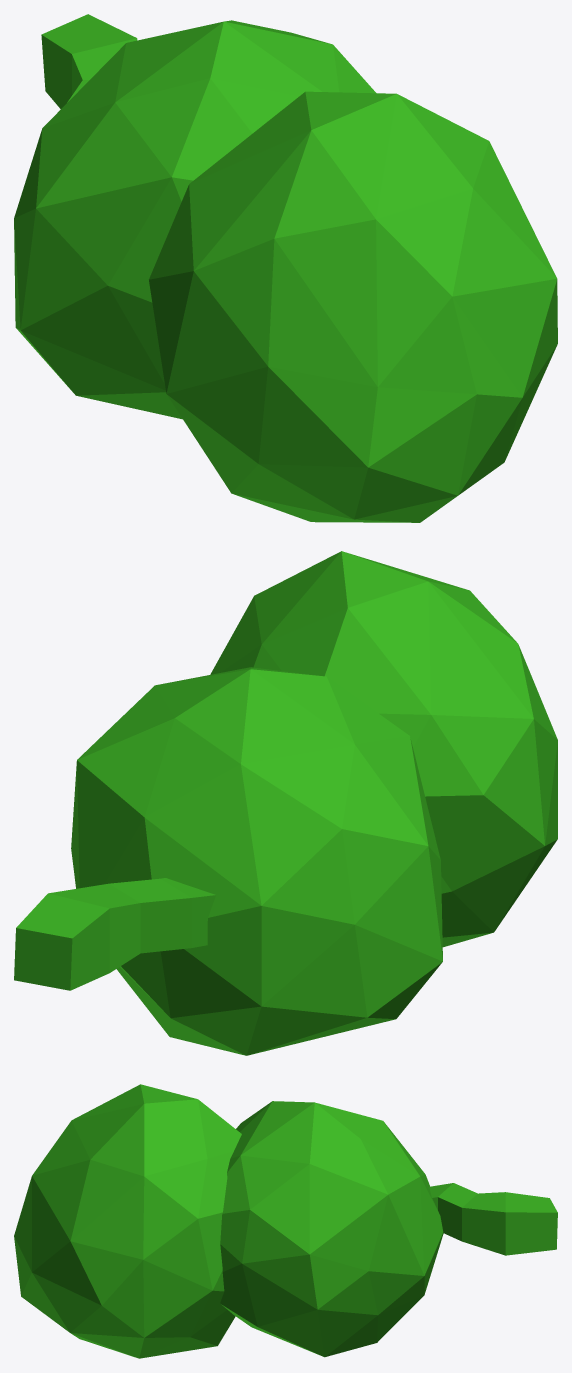
Rendered from godusTree.fbx.
3 views of the same model, one above another, from view 1: azimuth 30°, elevation 25°; view 2: azimuth 150°, elevation 25°; view 3: azimuth 270°, elevation 25° (orthographic). The views are drawn at different scales.
Visible parts, largest first — view 1: Icosphere; view 2: Icosphere; view 3: Icosphere.
Part boxes in pixels (bbox=[...]): Icosphere: bbox=[14, 14, 557, 522]; Icosphere: bbox=[14, 551, 557, 1055]; Icosphere: bbox=[14, 1084, 557, 1358].
Bounding box in the file's own units: 2.32 × 2.34 × 4.52.
